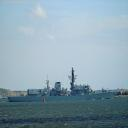Fragata: (7, 66, 121, 104)
